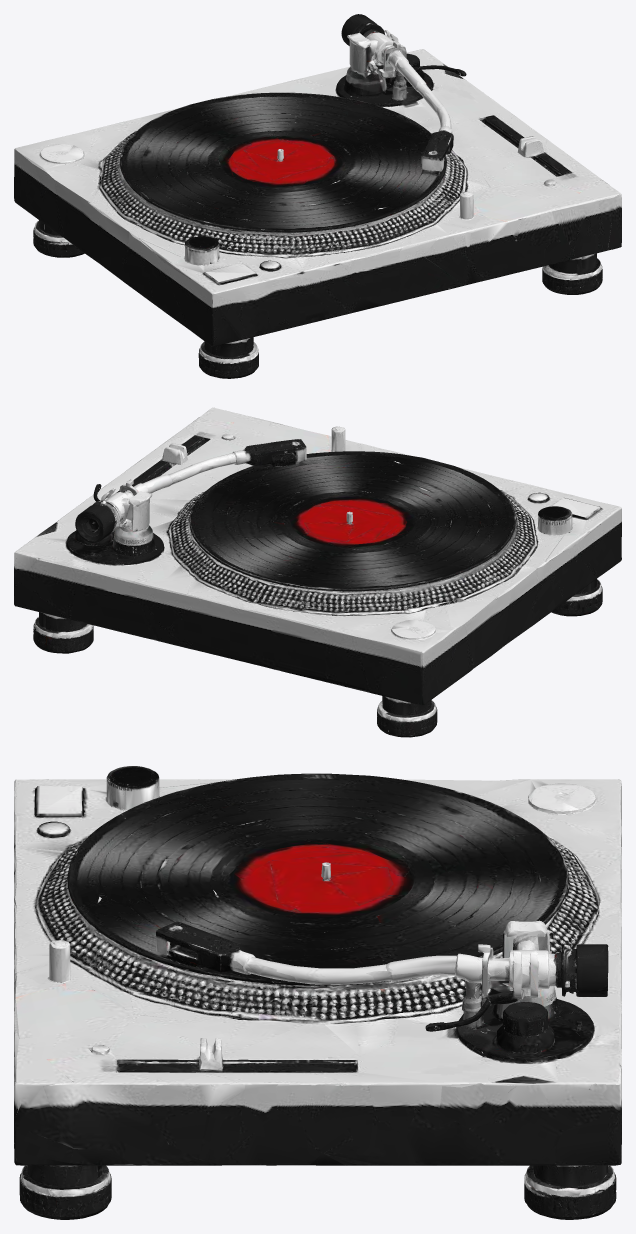
File: turntable.glb
3 renders of one model, top to bottom at view 1: azimuth 30°, elevation 25°; view 2: azimuth 150°, elevation 25°; view 3: azimuth 270°, elevation 25°, orthographic. The views are drawn at different scales.
Visible parts, largest first — view 1: Mesh_0; view 2: Mesh_0; view 3: Mesh_0.
Part boxes in pixels (<box>): Mesh_0: <box>14,14,621,378</box>; Mesh_0: <box>14,407,621,737</box>; Mesh_0: <box>14,766,621,1219</box>.
Bounding box in the file's own units: 1 × 0.352 × 0.8409.
1 material, 1 textured.
